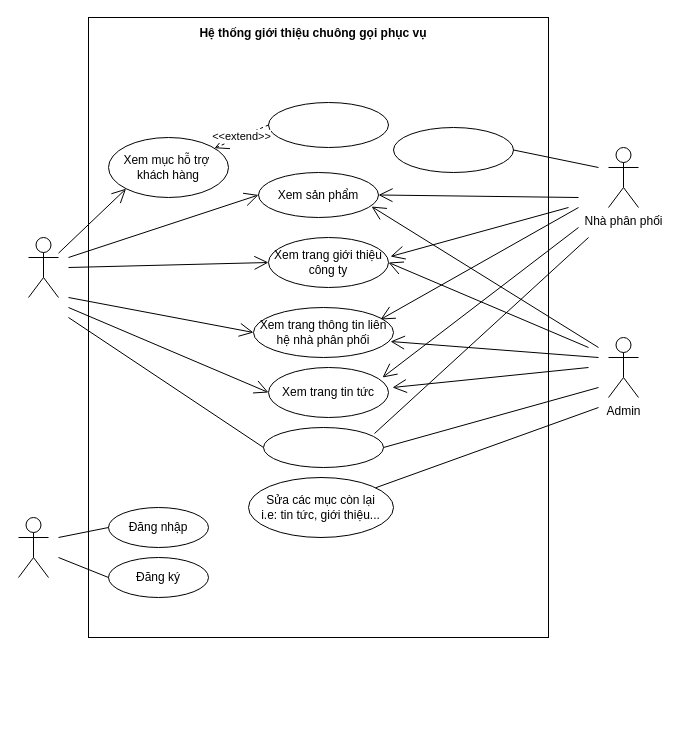
This 680x733 diagram has some shape labels left out. Each missing label, with the box of its shape:
Guest: (18, 516, 48, 578)
Gửi yêu cầu liên hệ: (268, 102, 388, 148)
Sửa sản phẩm: (392, 126, 514, 172)
User: (28, 236, 58, 298)
Đăng xuất: (262, 426, 384, 468)
